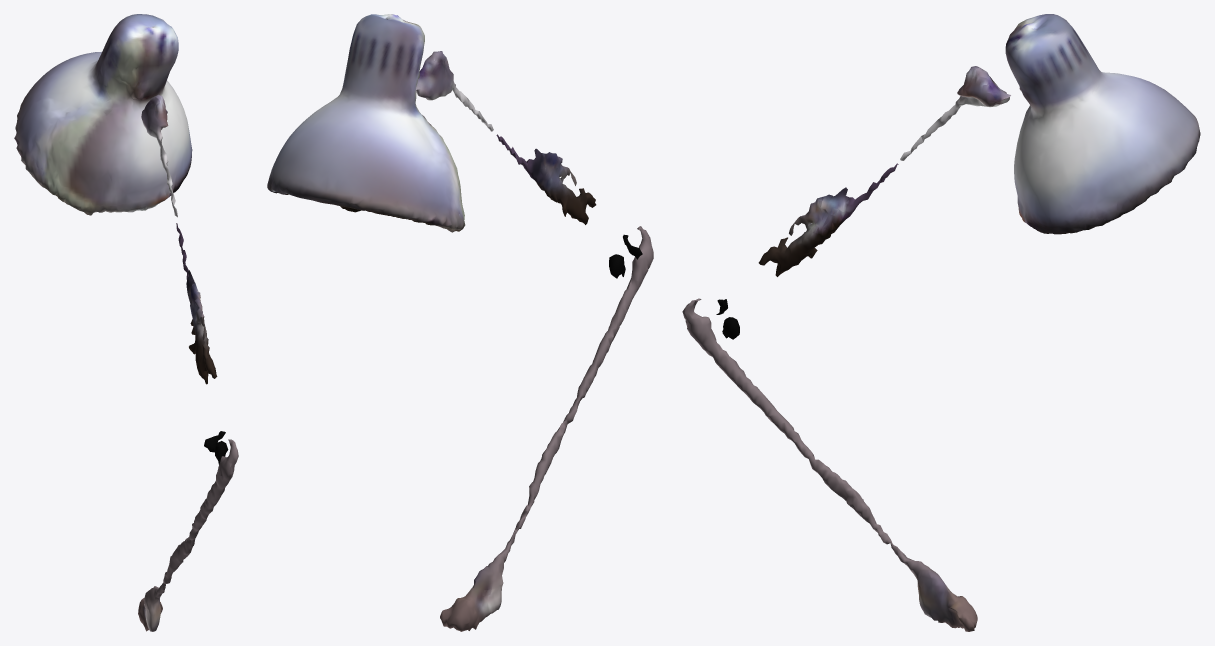
File: lampe.fbx
3 renders of one model, left to right at view 1: azimuth 30°, elevation 25°; view 2: azimuth 150°, elevation 25°; view 3: azimuth 270°, elevation 25°, orthographic. The views are drawn at different scales.
Visible parts, largest first — view 1: Lampe; view 2: Lampe; view 3: Lampe.
Boxes of the visible parts, <box> form: Lampe: <box>14,14,238,631</box>; Lampe: <box>267,14,653,631</box>; Lampe: <box>682,14,1200,631</box>.
Bounding box in the file's own units: 47.22 × 162 × 121.
1 material, 1 textured.
